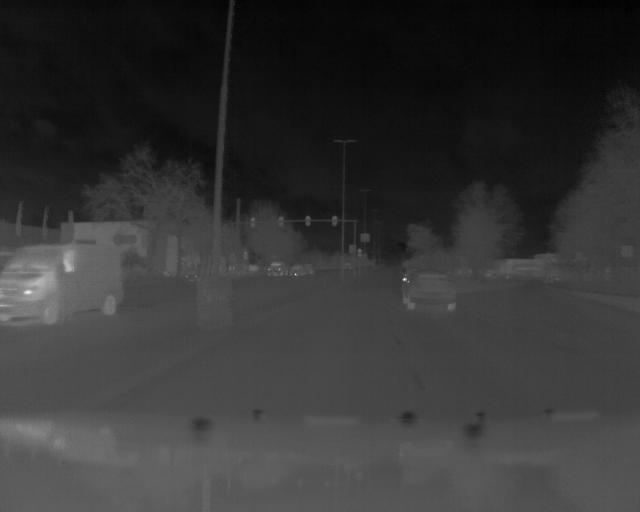car: (1, 239, 126, 328), (399, 266, 460, 317), (265, 258, 289, 278)
